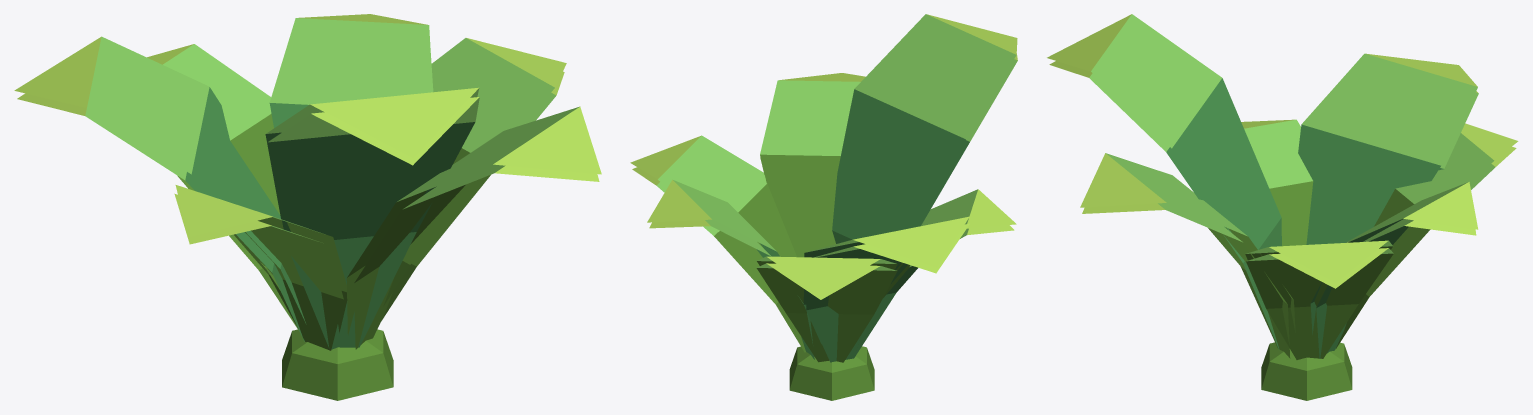
The model's file is plant_fan_green.fbx.
3 renders of one model, left to right at view 1: azimuth 30°, elevation 25°; view 2: azimuth 150°, elevation 25°; view 3: azimuth 270°, elevation 25°, orthographic. The views are drawn at different scales.
Visible parts, largest first — view 1: plant_fan_green; view 2: plant_fan_green; view 3: plant_fan_green.
Boxes of the visible parts, x1,y1,x2,y2 form: plant_fan_green: (14, 14, 601, 400); plant_fan_green: (630, 14, 1017, 400); plant_fan_green: (1047, 14, 1518, 400).
Bounding box in the file's own units: 942 × 717 × 987.
1 material, 1 textured.
